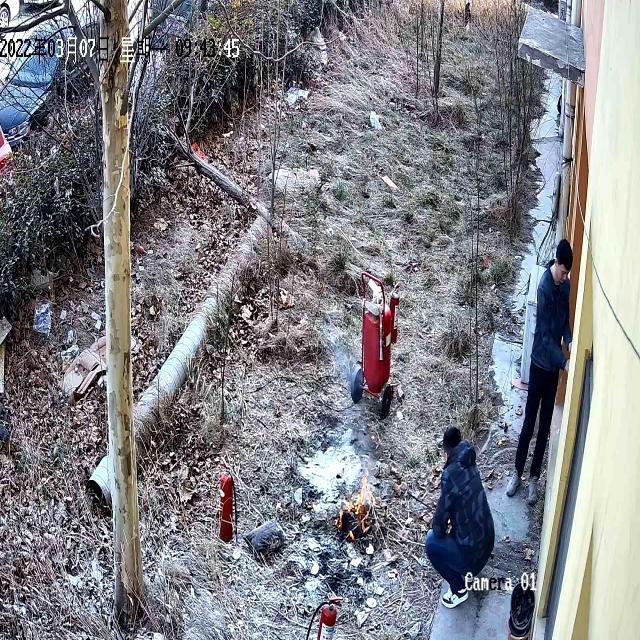Fire: (344, 477, 381, 532)
Smoke: (326, 354, 362, 482)
